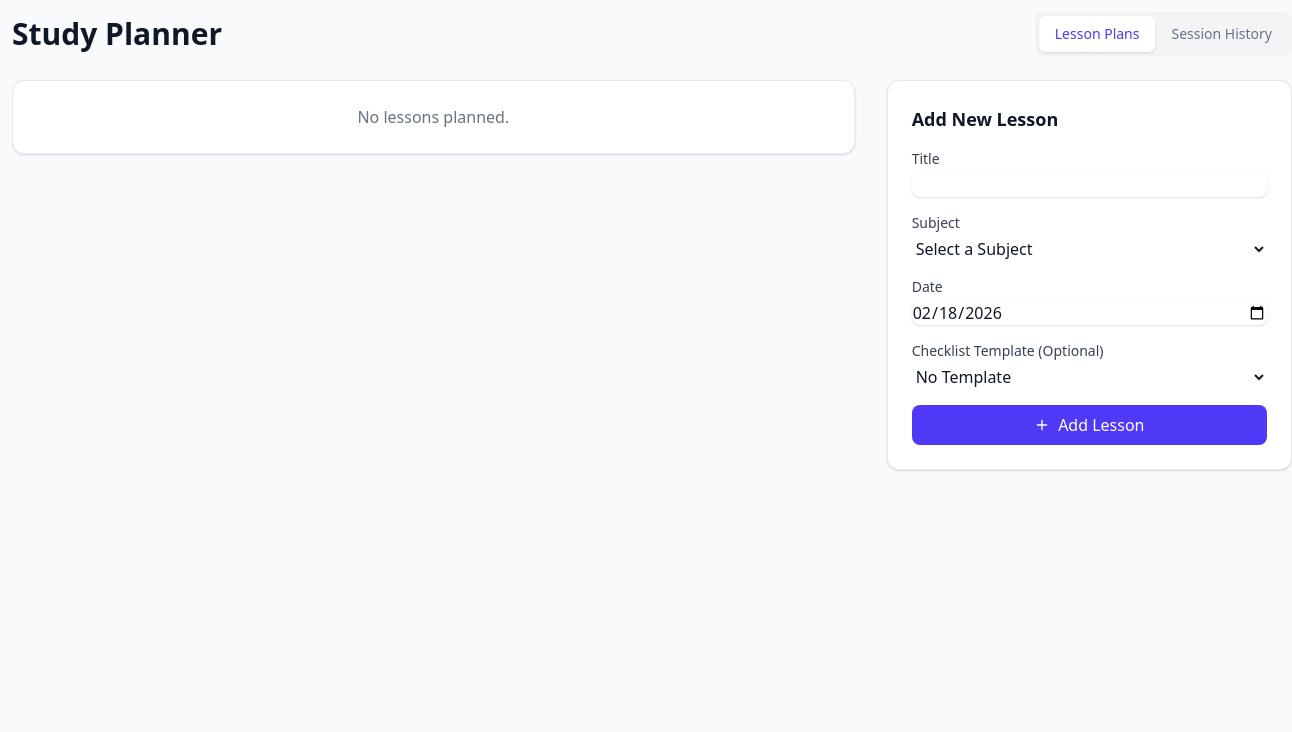
Scenario: Planner › renders session with linked lesson
What coordinates should you click on to do the following:
click the button "Session History"
I would click on:
 (1222, 34)
Its box is [1156, 16, 1288, 52].
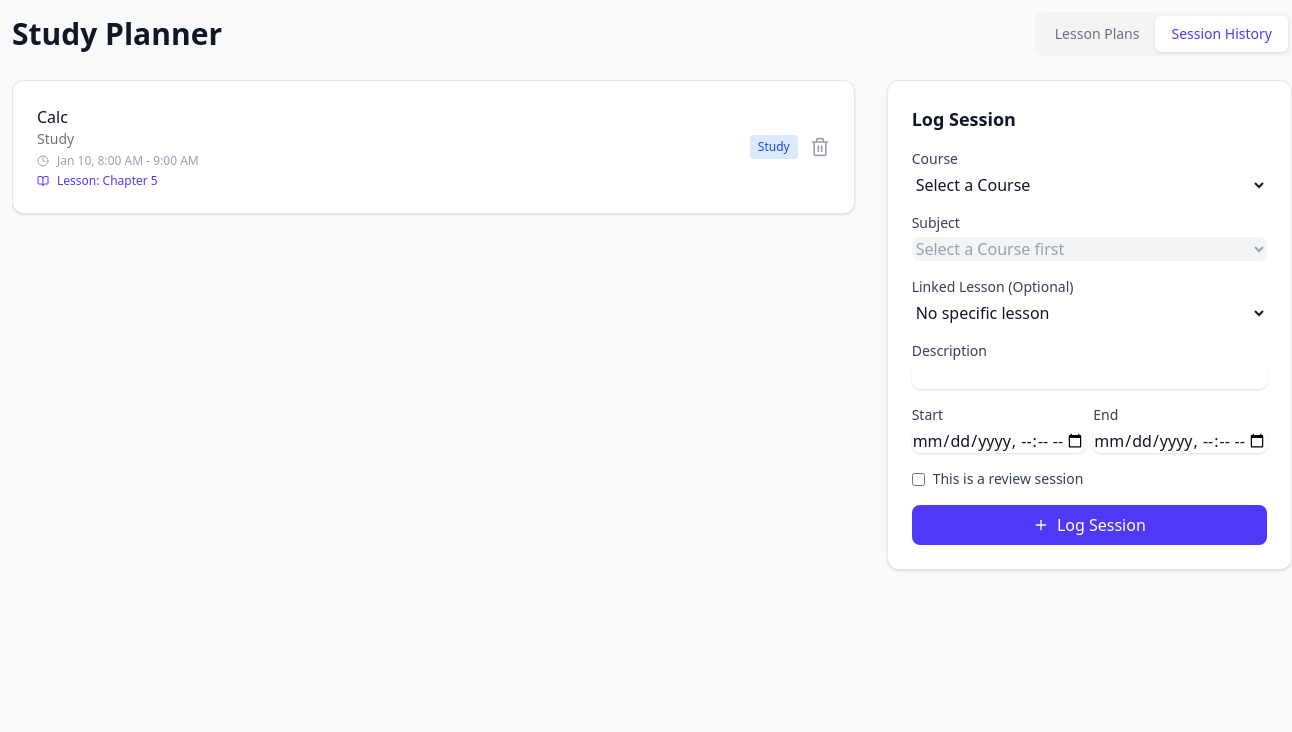
Now the text "Lesson: Chapter 5" is shown, box [37, 172, 158, 189]
